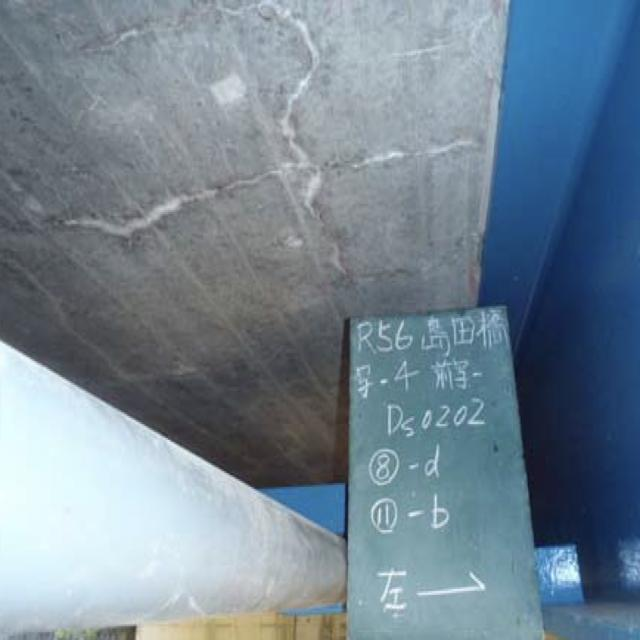freelime: (64, 19, 472, 270)
